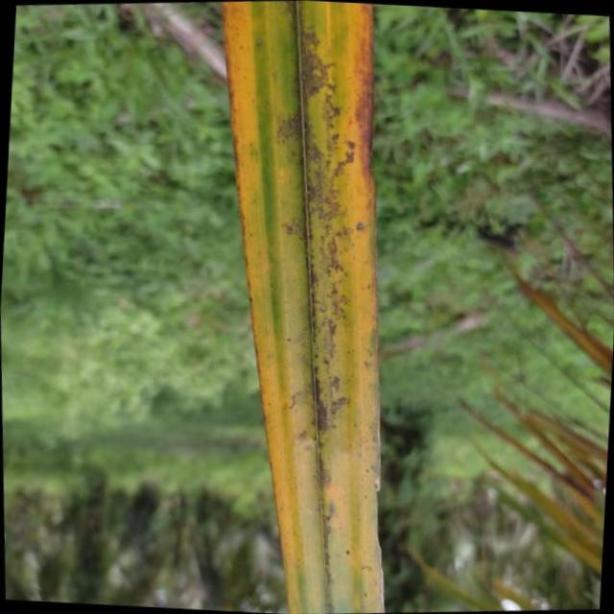Megnesium: (214, 0, 387, 614)
